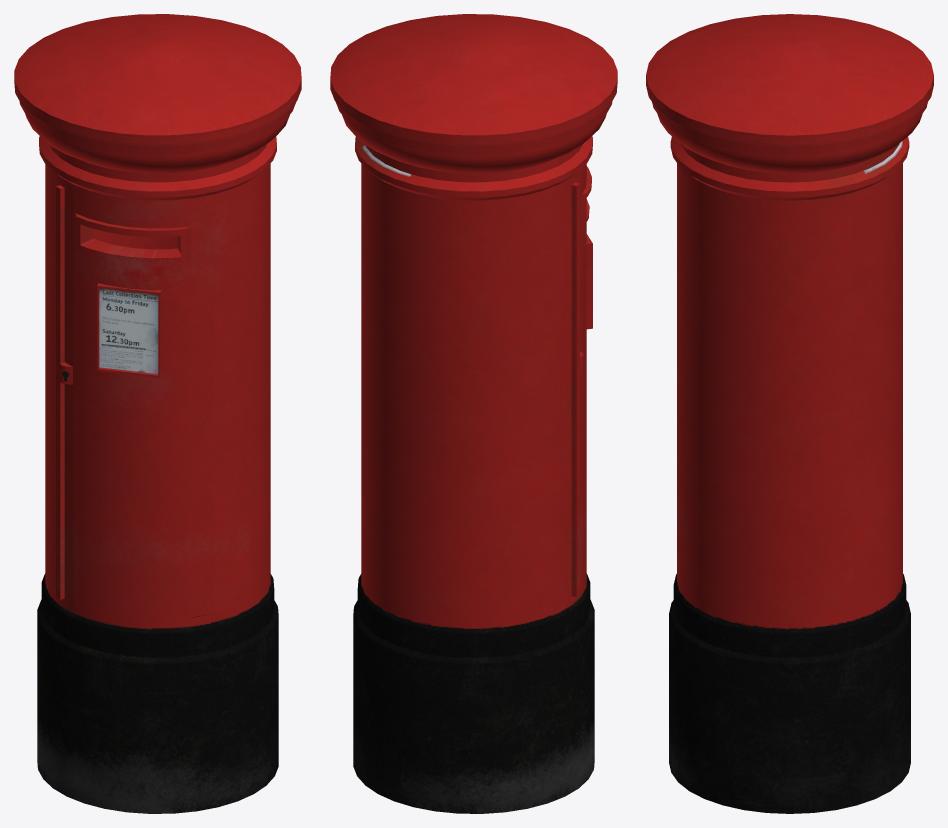
The model's file is royal_mail_post_box.glb.
3 views of the same model, side by side, from view 1: azimuth 30°, elevation 25°; view 2: azimuth 150°, elevation 25°; view 3: azimuth 270°, elevation 25° (orthographic).
Visible parts, largest first — view 1: body_0, door_2, top_1; view 2: body_0, top_1, door_2; view 3: body_0, top_1.
Part boxes in pixels (box(x1,y1,x2,y2)): body_0: box(37, 136, 278, 813); door_2: box(56, 185, 214, 619); top_1: box(14, 14, 301, 182); body_0: box(353, 136, 594, 813); top_1: box(330, 14, 617, 182); door_2: box(571, 164, 592, 596); body_0: box(669, 136, 910, 813); top_1: box(646, 14, 933, 182).
Bounding box in the file's own units: 0.6386 × 1.76 × 0.6386.
1 material, 1 textured.
